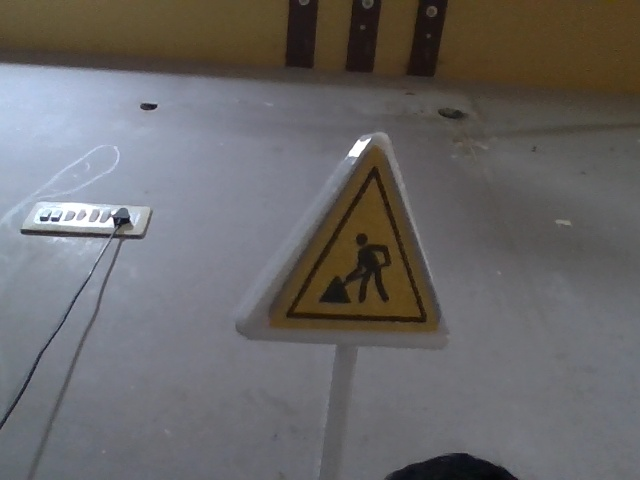workinprogress: (240, 126, 468, 363)
